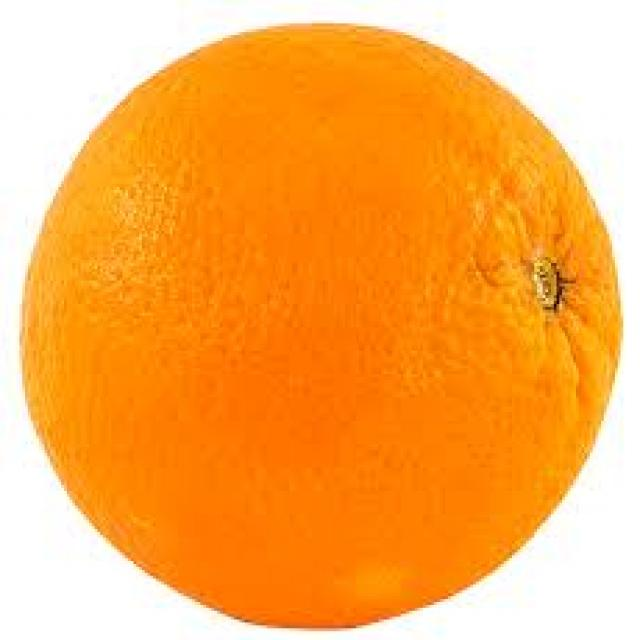orange: (14, 18, 629, 634)
